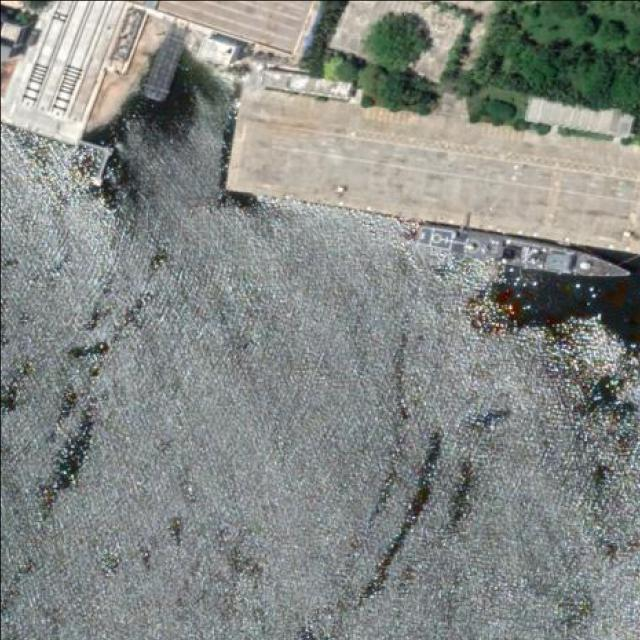Auxiliary Ships: (414, 220, 632, 285)
